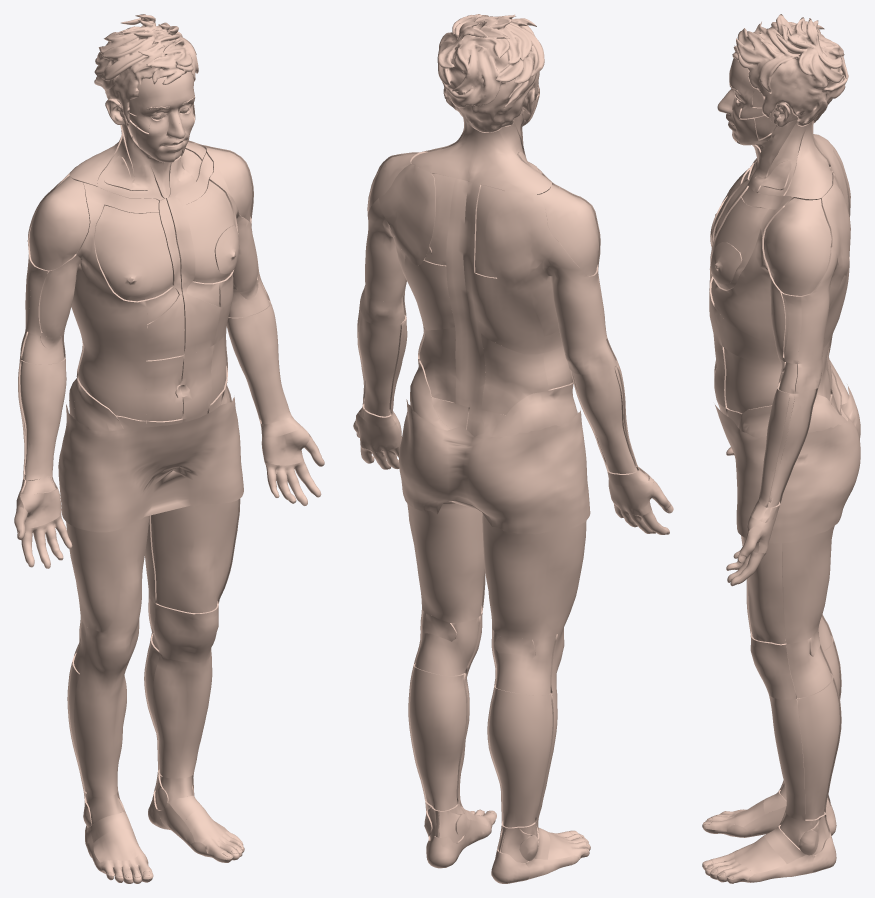
Rendered from skin.glb.
3 views of the same model, side by side, from view 1: azimuth 30°, elevation 25°; view 2: azimuth 150°, elevation 25°; view 3: azimuth 270°, elevation 25° (orthographic). The views are drawn at different scales.
Parts seen in each view (by area): view 1: Modesty cover, Anterior region of thigh.r, Anterior region of thigh.l, Hairs of head, Anterior region of leg.l, Anterior region of leg.r, Pectoral region.r, Anterior region of forearm.l, Deltoid region.r, Anterior region of forearm.r, Lateral region of thorax.r, Lateral region of abdomen.r (+41 smaller); view 2: Modesty cover, Hairs of head, Posterior region of thigh.r, Posterior region of thigh.l, Posterior region of leg.r, Posterior region of leg.l, Scapular region.r, Infrascapular region.r, Posterior region of arm.r, Scapular region.l, Posterior region of forearm.r, Vertebral region.l (+32 smaller); view 3: Modesty cover, Hairs of head, Deltoid region.l, Posterior region of thigh.l, Posterior region of leg.l, Anterior region of thigh.l, Lateral region of thorax.l, Anterior region of leg.l, Lateral region of abdomen.l, Posterior region of arm.l, Pectoral region.l, Posterior region of forearm.l (+41 smaller).
Boxes of the visible parts, x1,y1,x2,y2 form: Modesty cover: [58, 397, 243, 532]; Anterior region of thigh.r: [69, 376, 149, 634]; Anterior region of thigh.l: [151, 382, 240, 614]; Hairs of head: [94, 14, 198, 123]; Anterior region of leg.l: [152, 652, 212, 778]; Anterior region of leg.r: [74, 672, 126, 797]; Pectoral region.r: [94, 204, 174, 302]; Anterior region of forearm.l: [227, 303, 291, 424]; Deltoid region.r: [27, 175, 90, 271]; Anterior region of forearm.r: [21, 357, 66, 480]; Lateral region of thorax.r: [71, 224, 147, 333]; Lateral region of abdomen.r: [78, 346, 146, 421]; Modesty cover: [399, 399, 590, 534]; Hairs of head: [437, 14, 544, 132]; Posterior region of thigh.r: [482, 514, 577, 639]; Posterior region of thigh.l: [407, 503, 484, 623]; Posterior region of leg.r: [487, 687, 553, 828]; Posterior region of leg.l: [408, 666, 467, 811]; Scapular region.r: [485, 191, 558, 286]; Infrascapular region.r: [474, 272, 544, 354]; Posterior region of arm.r: [542, 241, 605, 347]; Scapular region.l: [379, 164, 435, 265]; Posterior region of forearm.r: [569, 368, 638, 474]; Vertebral region.l: [446, 178, 472, 407]; Modesty cover: [715, 384, 860, 543]; Hairs of head: [732, 14, 848, 126]; Deltoid region.l: [762, 197, 831, 296]; Posterior region of thigh.l: [782, 526, 834, 644]; Posterior region of leg.l: [797, 677, 841, 820]; Anterior region of thigh.l: [738, 405, 785, 645]; Lateral region of thorax.l: [714, 229, 844, 343]; Anterior region of leg.l: [769, 695, 805, 820]; Lateral region of abdomen.l: [724, 348, 781, 414]; Posterior region of arm.l: [798, 247, 837, 363]; Pectoral region.l: [710, 198, 768, 290]; Posterior region of forearm.l: [767, 388, 818, 507].
Size of the model in its own units: 0.6801 by 1.74 by 0.3003.
